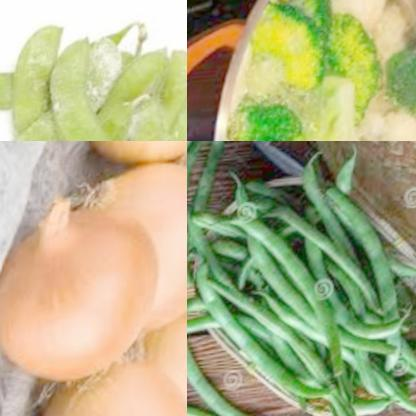beans: (189, 144, 416, 416), (0, 0, 187, 141), (187, 275, 305, 416), (187, 141, 238, 313)
broccoli: (239, 0, 416, 141)
cayliflower: (374, 0, 414, 67), (326, 0, 399, 35), (364, 103, 416, 141)
onion: (0, 195, 169, 391), (71, 155, 187, 346), (37, 326, 187, 416), (142, 247, 187, 416), (68, 141, 187, 185)
